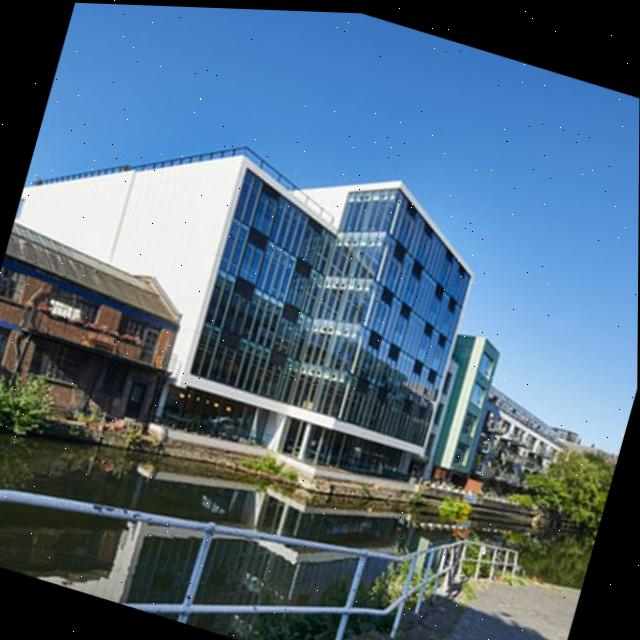building: (0, 72, 493, 487), (0, 218, 190, 437), (420, 328, 625, 519)
